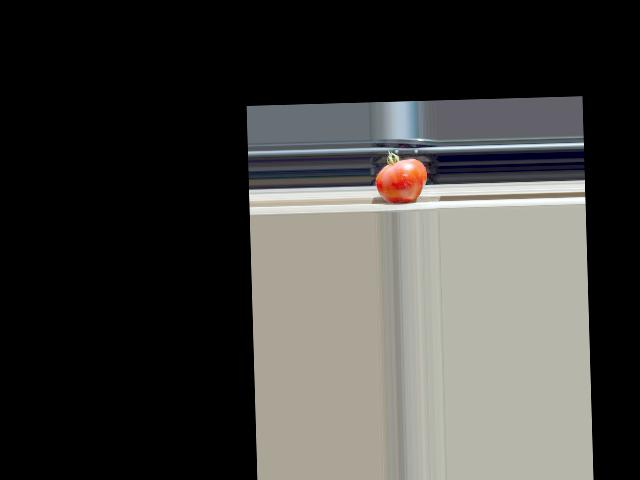tomato: (374, 149, 427, 203)
